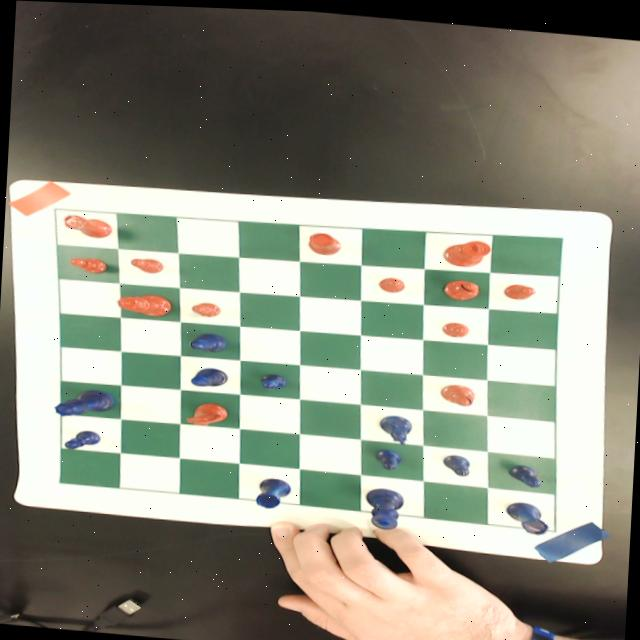B: (191, 364, 229, 387), (190, 330, 228, 351)
K: (364, 483, 406, 527)
N: (376, 409, 414, 444)
P: (506, 459, 544, 484), (64, 427, 102, 451), (440, 449, 472, 474), (373, 445, 404, 468), (260, 369, 289, 388)
Q: (53, 385, 114, 419)
R: (504, 496, 550, 531), (254, 474, 292, 507)
b: (443, 273, 480, 298), (439, 378, 475, 403)
k: (442, 233, 492, 264)
n: (184, 398, 230, 426)
p: (68, 254, 109, 274), (502, 278, 538, 297), (128, 255, 164, 273), (191, 299, 222, 316), (378, 272, 406, 290), (441, 317, 469, 334)
q: (116, 289, 173, 316)
r: (61, 212, 114, 238), (306, 227, 344, 252)
